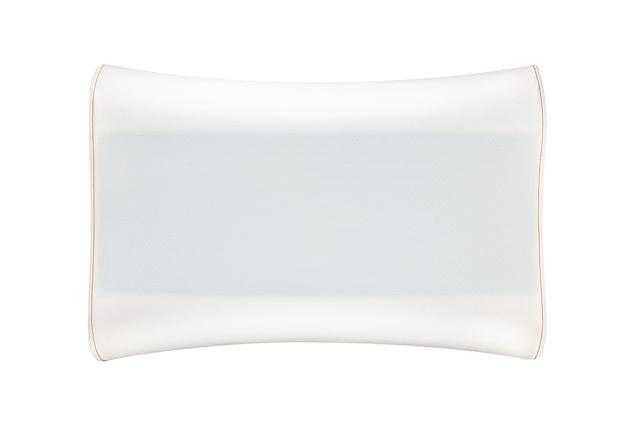pillow: (87, 62, 546, 362)
